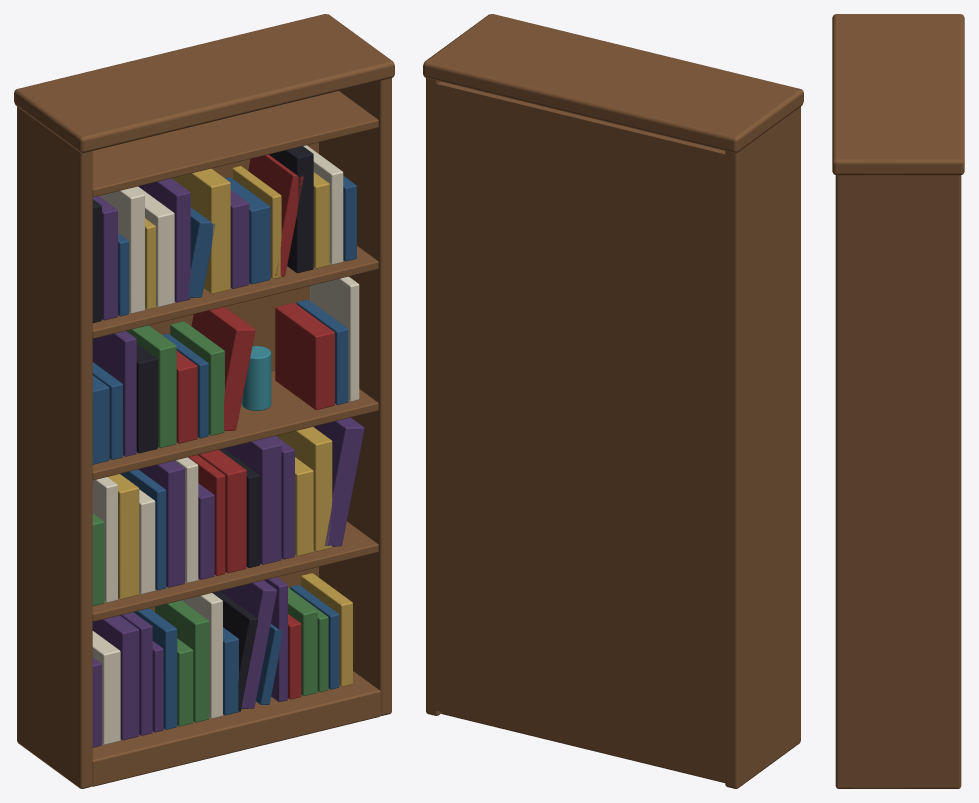
File: bookshelf.glb
3 views of the same model, side by side, from view 1: azimuth 30°, elevation 25°; view 2: azimuth 150°, elevation 25°; view 3: azimuth 270°, elevation 25° (orthographic). The views are drawn at different scales.
Parts seen in each view (by area): view 1: Cube, Cube.003, Cube.001, Cube.008, Cube.004, Cube.006, Cube.053, Cube.005, Cube.007, Cube.064, Cube.052, Cube.039 (+62 smaller); view 2: Cube.002, Cube, Cube.003, Cube.001, Cube.004; view 3: Cube.001, Cube.003.
Part boxes in pixels (bbox=[...]): Cube: bbox=[17, 106, 92, 788]; Cube.003: bbox=[14, 14, 394, 152]; Cube.001: bbox=[319, 78, 391, 715]; Cube.008: bbox=[92, 91, 378, 197]; Cube.004: bbox=[92, 671, 380, 786]; Cube.006: bbox=[92, 371, 378, 480]; Cube.053: bbox=[275, 303, 334, 410]; Cube.005: bbox=[92, 521, 378, 621]; Cube.007: bbox=[92, 246, 378, 338]; Cube.064: bbox=[172, 168, 230, 293]; Cube.052: bbox=[191, 307, 255, 430]; Cube.039: bbox=[224, 437, 281, 564]; Cube.002: bbox=[428, 81, 733, 781]; Cube: bbox=[725, 106, 800, 788]; Cube.003: bbox=[423, 14, 803, 152]; Cube.001: bbox=[426, 78, 441, 715]; Cube.004: bbox=[441, 712, 725, 782]; Cube.001: bbox=[835, 175, 961, 788]; Cube.003: bbox=[832, 14, 964, 175].
Bounding box in the file's own units: 0.98 × 1.94 × 0.37.
